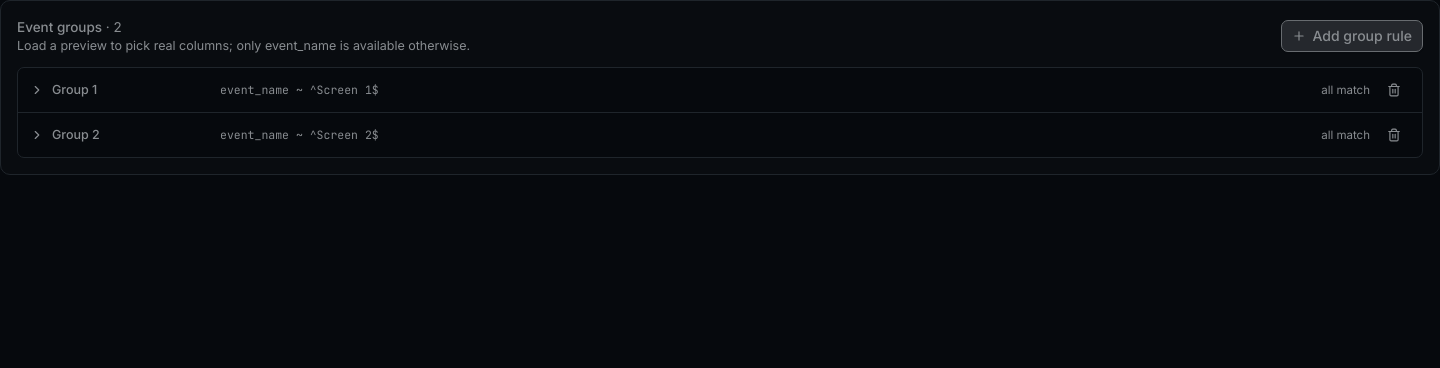
Test: EventGroupRulesEditor — one line per rule (#247 DA-7) › lists saved rules closed, with their conditions on the line, and a count
Expected: the text "· 2" is shown, [106,19,122,35]
Expected: the text "event_name ~ ^Screen 1$" is shown, [220,82,379,97]
Click the button named "Edit group rule \"Group 1\"".
click(75, 90)  # box [30,81,1370,99]
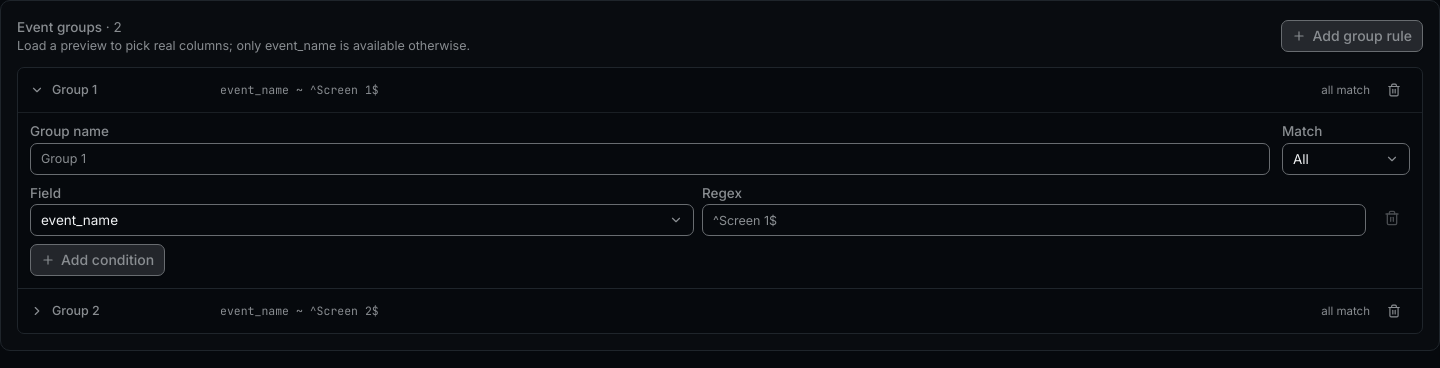
Expected: the field labelled "Group name" holds "Group 1", [30,142,1270,174]
